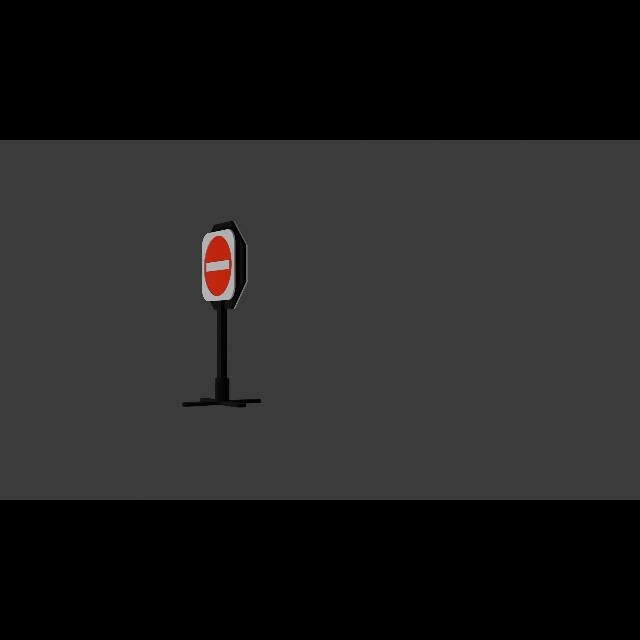sign_noentry: (204, 235, 234, 300)
